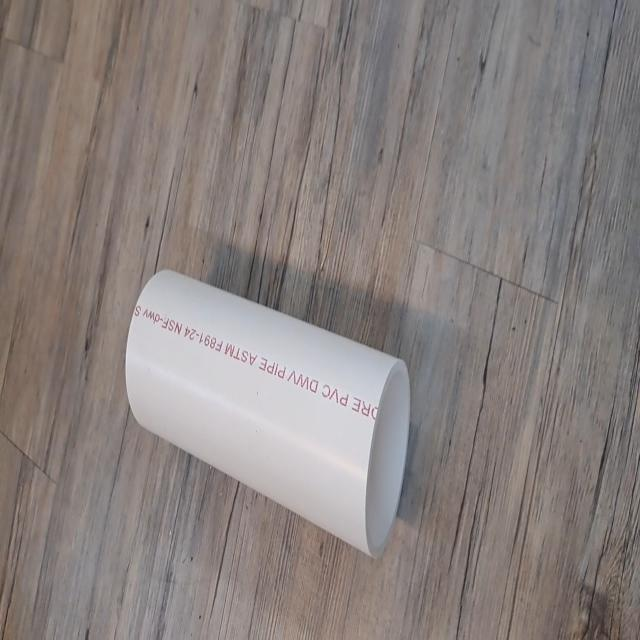CORAL: (127, 261, 413, 564)
